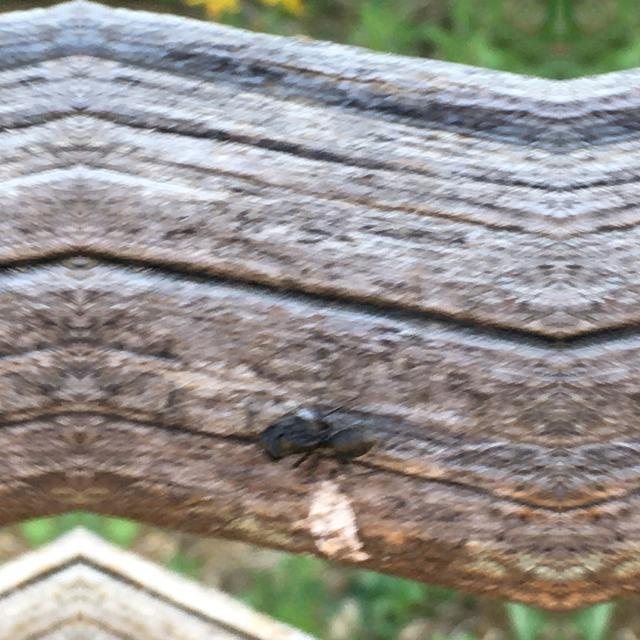Camponotus: (246, 402, 388, 478)
